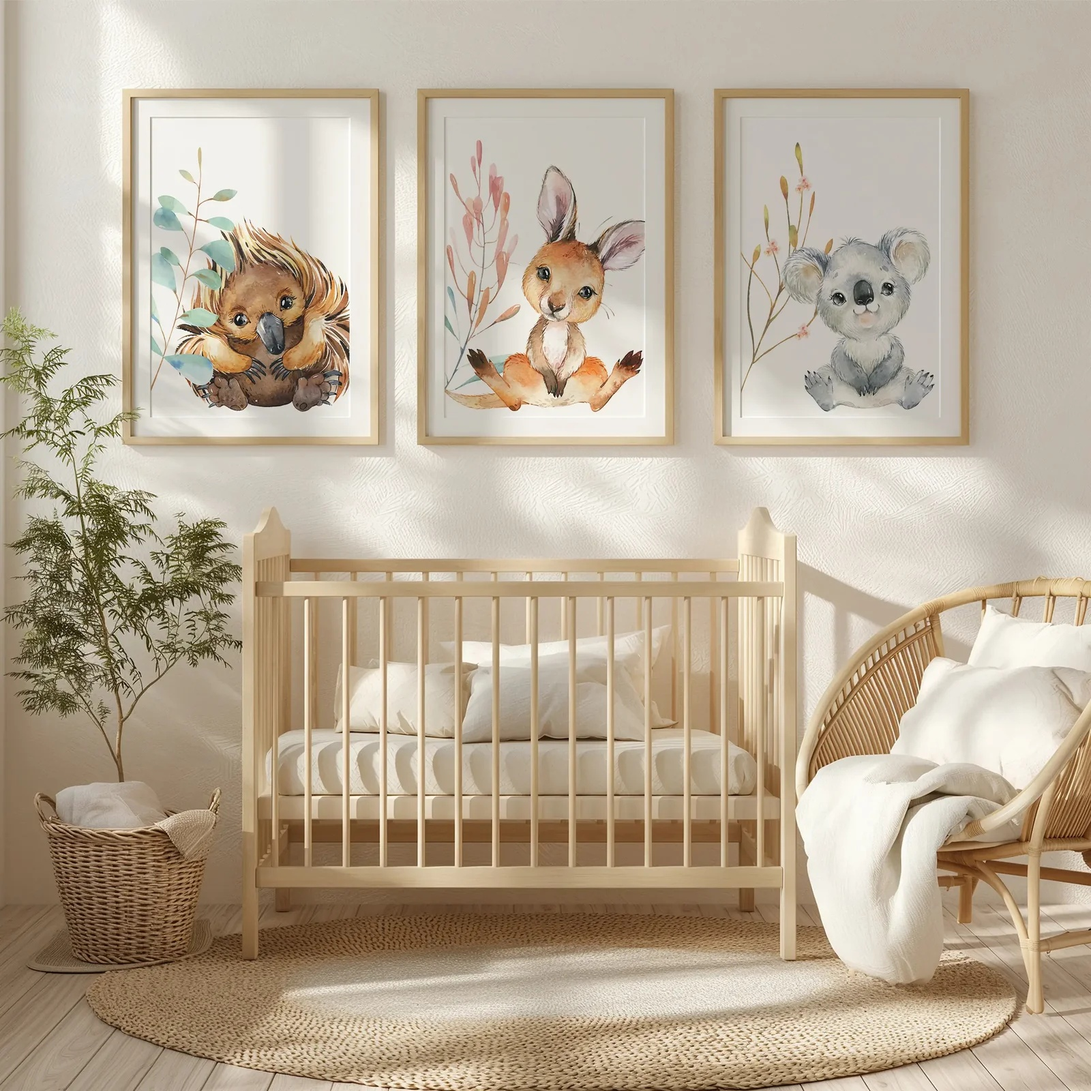crib: (243, 509, 796, 958)
